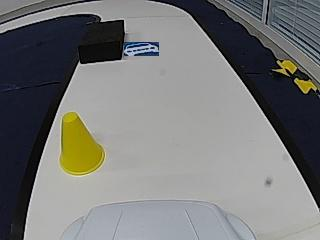block: (78, 19, 124, 63)
cone: (60, 113, 105, 176)
